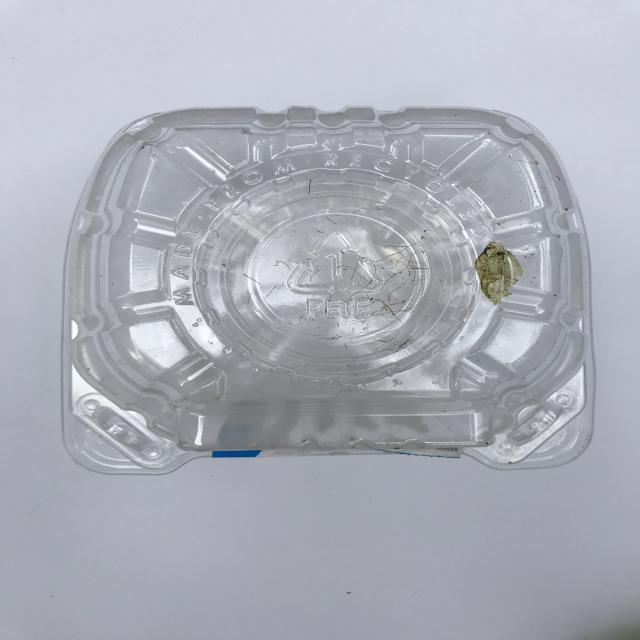plastic: (50, 103, 610, 474)
